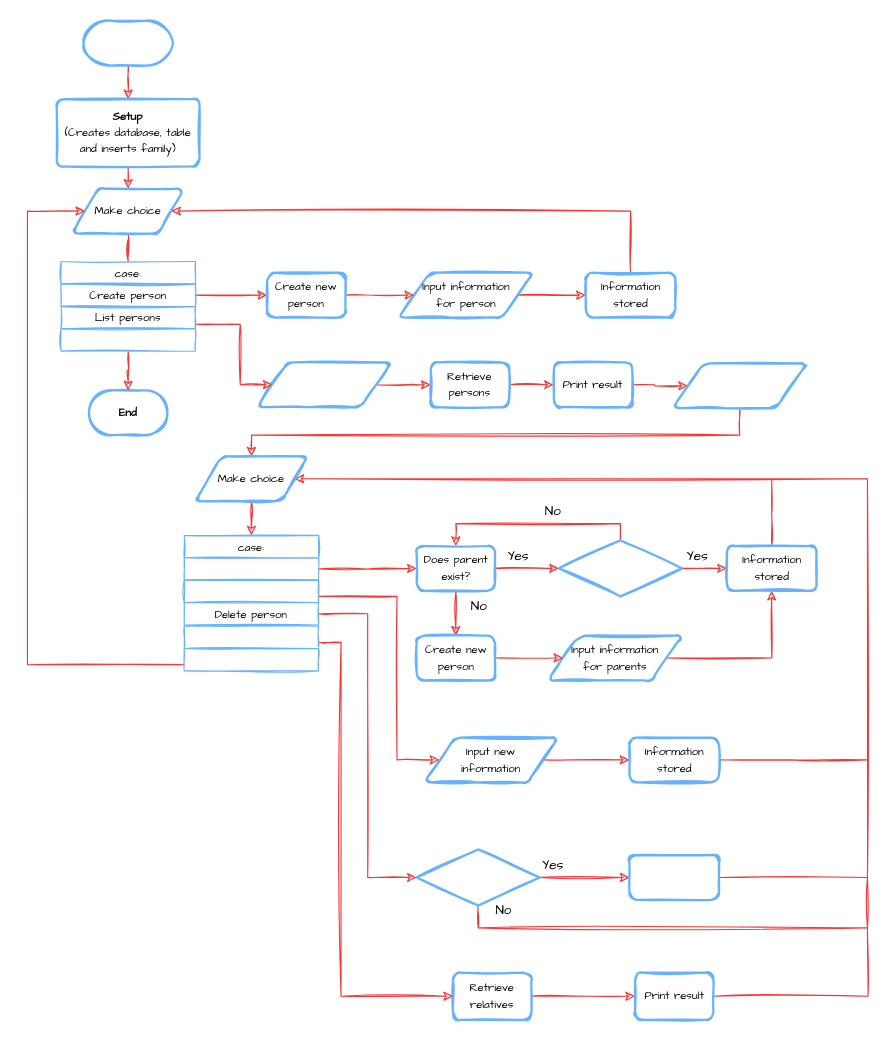
Image size: 896x1039. Some labels were removed from this diagram. The shapes that lost their labels are listed below. From the top down, each one's centre as x and y in pixels, then its label:
At point 128,42: "Start".
At point 127,339: "Exit".
At point 323,384: "Enter conditions for search".
At point 739,385: "Choose person".
At point 251,568: "Set parent".
At point 620,568: "Choose parent?".
At point 251,591: "Edit person".
At point 251,636: "Show relatives".
At point 251,659: "Go back".
At point 477,877: "Are you sure?".
At point 674,876: "Person deleted".
